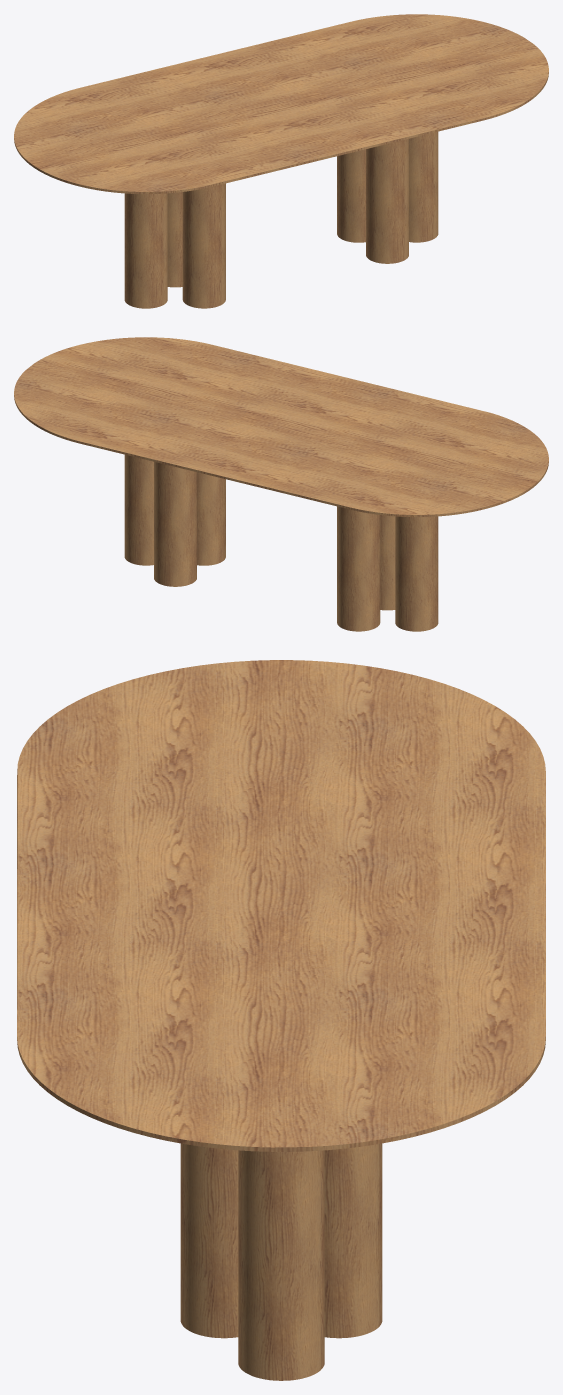
Rendered from pillar-table-model.glb.
3 views of the same model, one above another, from view 1: azimuth 30°, elevation 25°; view 2: azimuth 150°, elevation 25°; view 3: azimuth 270°, elevation 25° (orthographic). The views are drawn at different scales.
Size of the model in its own units: 2.4 by 0.75 by 1.1.
3 materials, 3 textured.
